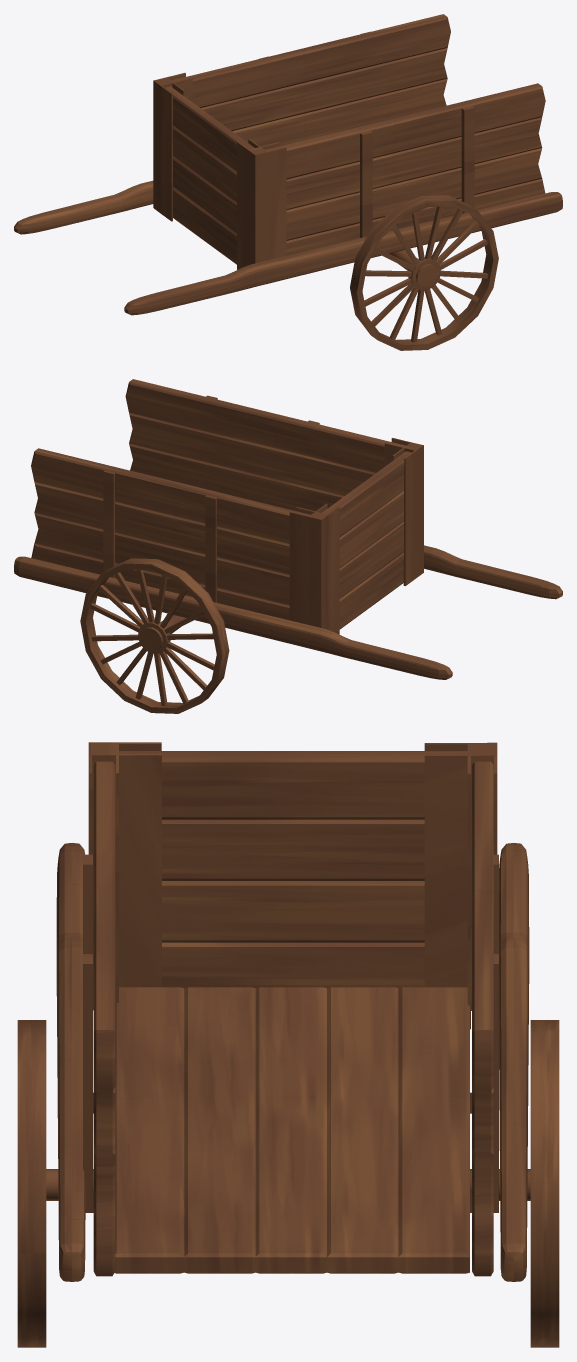
The model's file is cart.fbx.
The picture shows the model from 3 angles, top to bottom: view 1: azimuth 30°, elevation 25°; view 2: azimuth 150°, elevation 25°; view 3: azimuth 270°, elevation 25°; orthographic projection. The views are drawn at different scales.
Visible parts, largest first — view 1: Object001, Object002, Object003, Cart_low_Side_Peice1, Cart_low_Brace4, Cart_low_polySurface2_Wheel, Cart_low_Brace1, Cart_low_Side_Peice2, Cart_low_Brace3, Cart_low_Brace5, Cart_low_Wheel_polySurface12; view 2: Object002, Object001, Object003, Cart_low_Side_Peice2, Cart_low_Brace1, Cart_low_Wheel_polySurface15, Cart_low_Brace4, Cart_low_Side_Peice1, Cart_low_Brace5, Cart_low_Brace3, Cart_low_Wheel_polySurface14; view 3: Cart_low_Planks2, Object003, Cart_low_Brace4, Cart_low_Brace1, Cart_low_Side_Peice2, Object001, Cart_low_Side_Peice1, Object002, Cart_low_polySurface2_Wheel, Cart_low_Wheel_polySurface15, Cart_low_Brace3, Cart_low_Brace5.
Part boxes in pixels (left/top/right/bottom): Object001: left=265, top=83, right=545, bottom=255; Object002: left=171, top=14, right=450, bottom=146; Object003: left=165, top=86, right=254, bottom=264; Cart_low_Side_Peice1: left=124, top=192, right=562, bottom=315; Cart_low_Brace4: left=237, top=139, right=286, bottom=269; Cart_low_polySurface2_Wheel: left=350, top=195, right=498, bottom=350; Cart_low_Brace1: left=153, top=73, right=192, bottom=221; Cart_low_Side_Peice2: left=14, top=180, right=153, bottom=234; Cart_low_Brace3: left=360, top=31, right=474, bottom=213; Cart_low_Brace5: left=259, top=56, right=372, bottom=237; Cart_low_Wheel_polySurface12: left=408, top=258, right=440, bottom=290; Object002: left=31, top=448, right=310, bottom=620; Object001: left=125, top=379, right=405, bottom=511; Object003: left=322, top=451, right=411, bottom=629; Cart_low_Side_Peice2: left=14, top=556, right=452, bottom=679; Cart_low_Brace1: left=289, top=503, right=339, bottom=634; Cart_low_Wheel_polySurface15: left=80, top=558, right=229, bottom=713; Cart_low_Brace4: left=384, top=438, right=423, bottom=585; Cart_low_Side_Peice1: left=424, top=545, right=562, bottom=599; Cart_low_Brace5: left=205, top=420, right=319, bottom=602; Cart_low_Brace3: left=103, top=395, right=217, bottom=578; Cart_low_Wheel_polySurface14: left=138, top=621, right=170, bottom=653; Cart_low_Planks2: left=112, top=987, right=469, bottom=1273; Object003: left=119, top=751, right=467, bottom=988; Cart_low_Brace4: left=88, top=742, right=161, bottom=1010; Cart_low_Brace1: left=424, top=742, right=497, bottom=1029; Cart_low_Side_Peice2: left=499, top=843, right=529, bottom=1281; Object001: left=93, top=761, right=115, bottom=1276; Cart_low_Side_Peice1: left=56, top=843, right=85, bottom=1281; Object002: left=472, top=761, right=493, bottom=1276; Cart_low_polySurface2_Wheel: left=17, top=1020, right=46, bottom=1347; Cart_low_Wheel_polySurface15: left=530, top=1020, right=559, bottom=1347; Cart_low_Brace3: left=83, top=954, right=498, bottom=1212; Cart_low_Brace5: left=83, top=854, right=498, bottom=1113.
Bounding box in the file's own units: 46.16 × 24.83 × 22.2.
